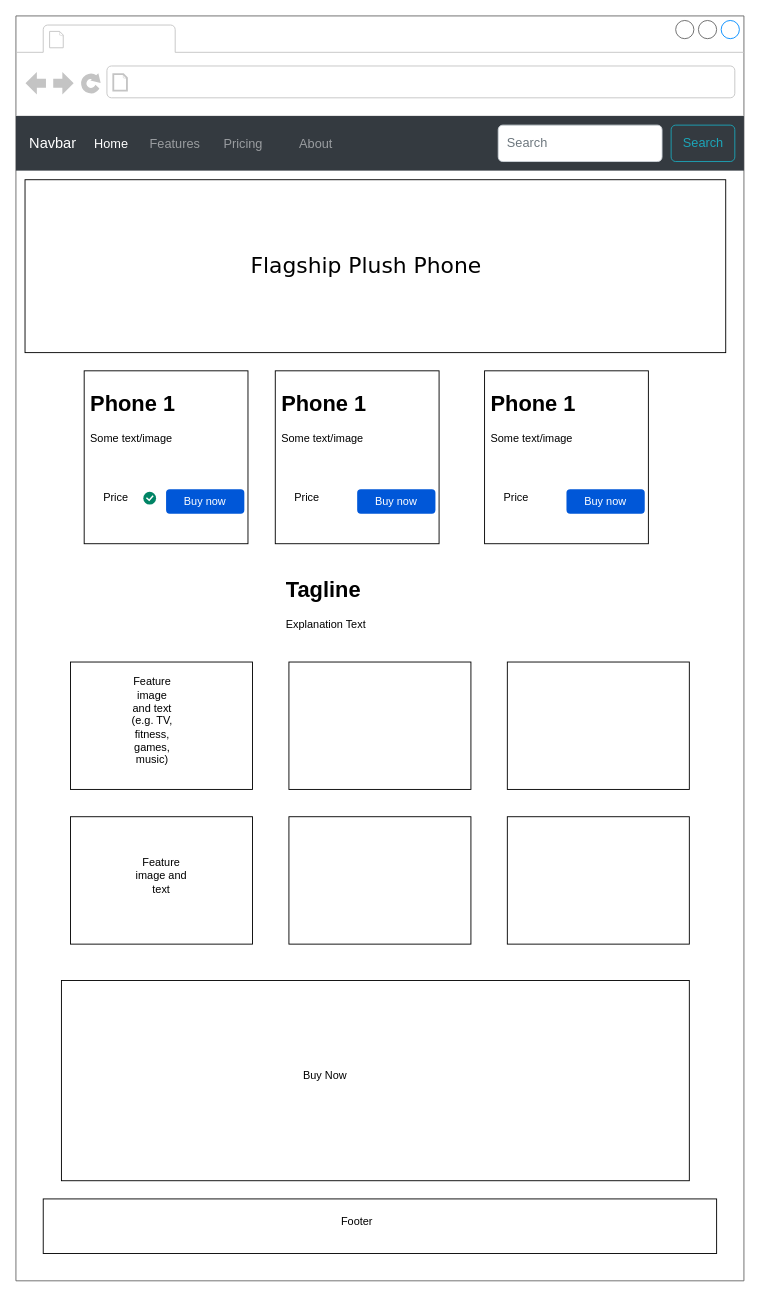
The diagram is 760 pixels wide and 1297 high, and some of its shapes have lost their labels. The centre of each missing label's shape, as x and y in pixels:
"https://www.draw.io" belongs at point 247,82.
"Page 1" belongs at point 120,38.
